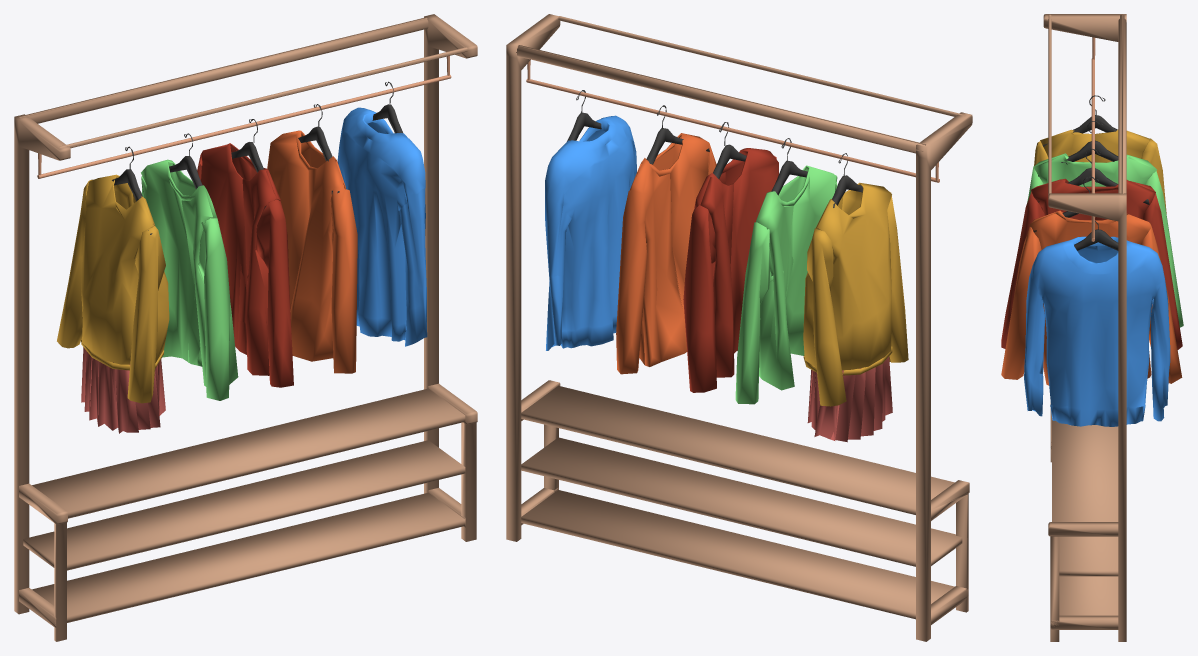
File: Cloth-Rack01.fbx
3 views of the same model, side by side, from view 1: azimuth 30°, elevation 25°; view 2: azimuth 150°, elevation 25°; view 3: azimuth 270°, elevation 25° (orthographic). The views are drawn at different scales.
Parts seen in each view (by area): view 1: Pattern2D_5081.001, Final.009, Tshirt.004, Cylinder.010, Final.003; view 2: Pattern2D_5081.001, Final.009, Tshirt.004, Final.003, Cylinder.010; view 3: Pattern2D_5081.001, Tshirt.004, Final.009, Final.003, Cylinder.010, Final.002.
Part boxes in pixels (bbox=[...]): Pattern2D_5081.001: bbox=[14, 14, 477, 641]; Final.009: bbox=[57, 130, 357, 433]; Tshirt.004: bbox=[337, 107, 427, 346]; Cylinder.010: bbox=[37, 56, 451, 178]; Final.003: bbox=[112, 104, 339, 234]; Pattern2D_5081.001: bbox=[506, 14, 972, 641]; Final.009: bbox=[616, 133, 908, 442]; Tshirt.004: bbox=[545, 115, 636, 350]; Final.003: bbox=[646, 105, 862, 229]; Cylinder.010: bbox=[526, 60, 939, 182]; Pattern2D_5081.001: bbox=[1043, 14, 1126, 641]; Tshirt.004: bbox=[1024, 236, 1170, 426]; Final.009: bbox=[1001, 129, 1183, 385]; Final.003: bbox=[1033, 95, 1149, 232]; Cylinder.010: bbox=[1091, 37, 1095, 241]; Final.002: bbox=[1074, 221, 1118, 250].
Bounding box in the file's own units: 429 × 483 × 180.
